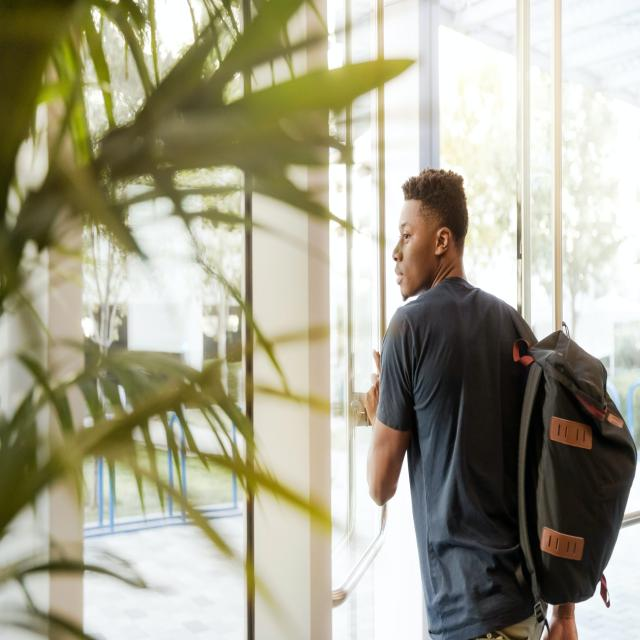backpack: (496, 304, 637, 610)
